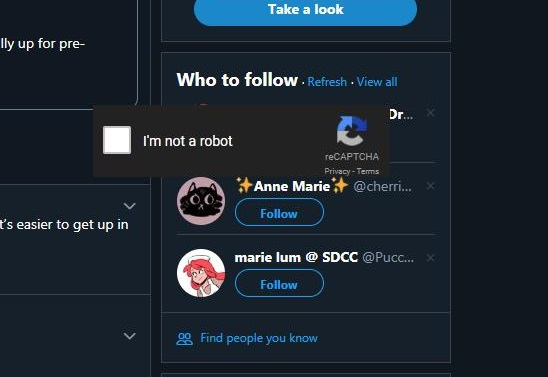captcha: (103, 125, 236, 155)
